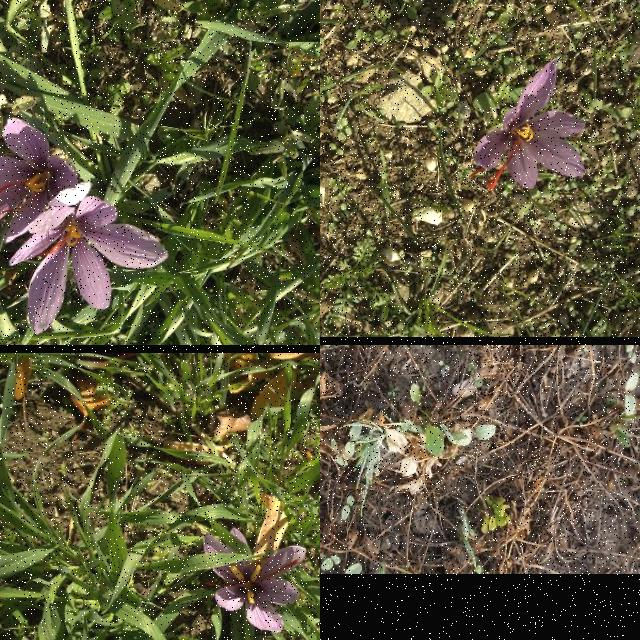flower: (8, 198, 170, 334), (469, 58, 586, 192), (0, 118, 90, 243), (203, 527, 307, 633)
